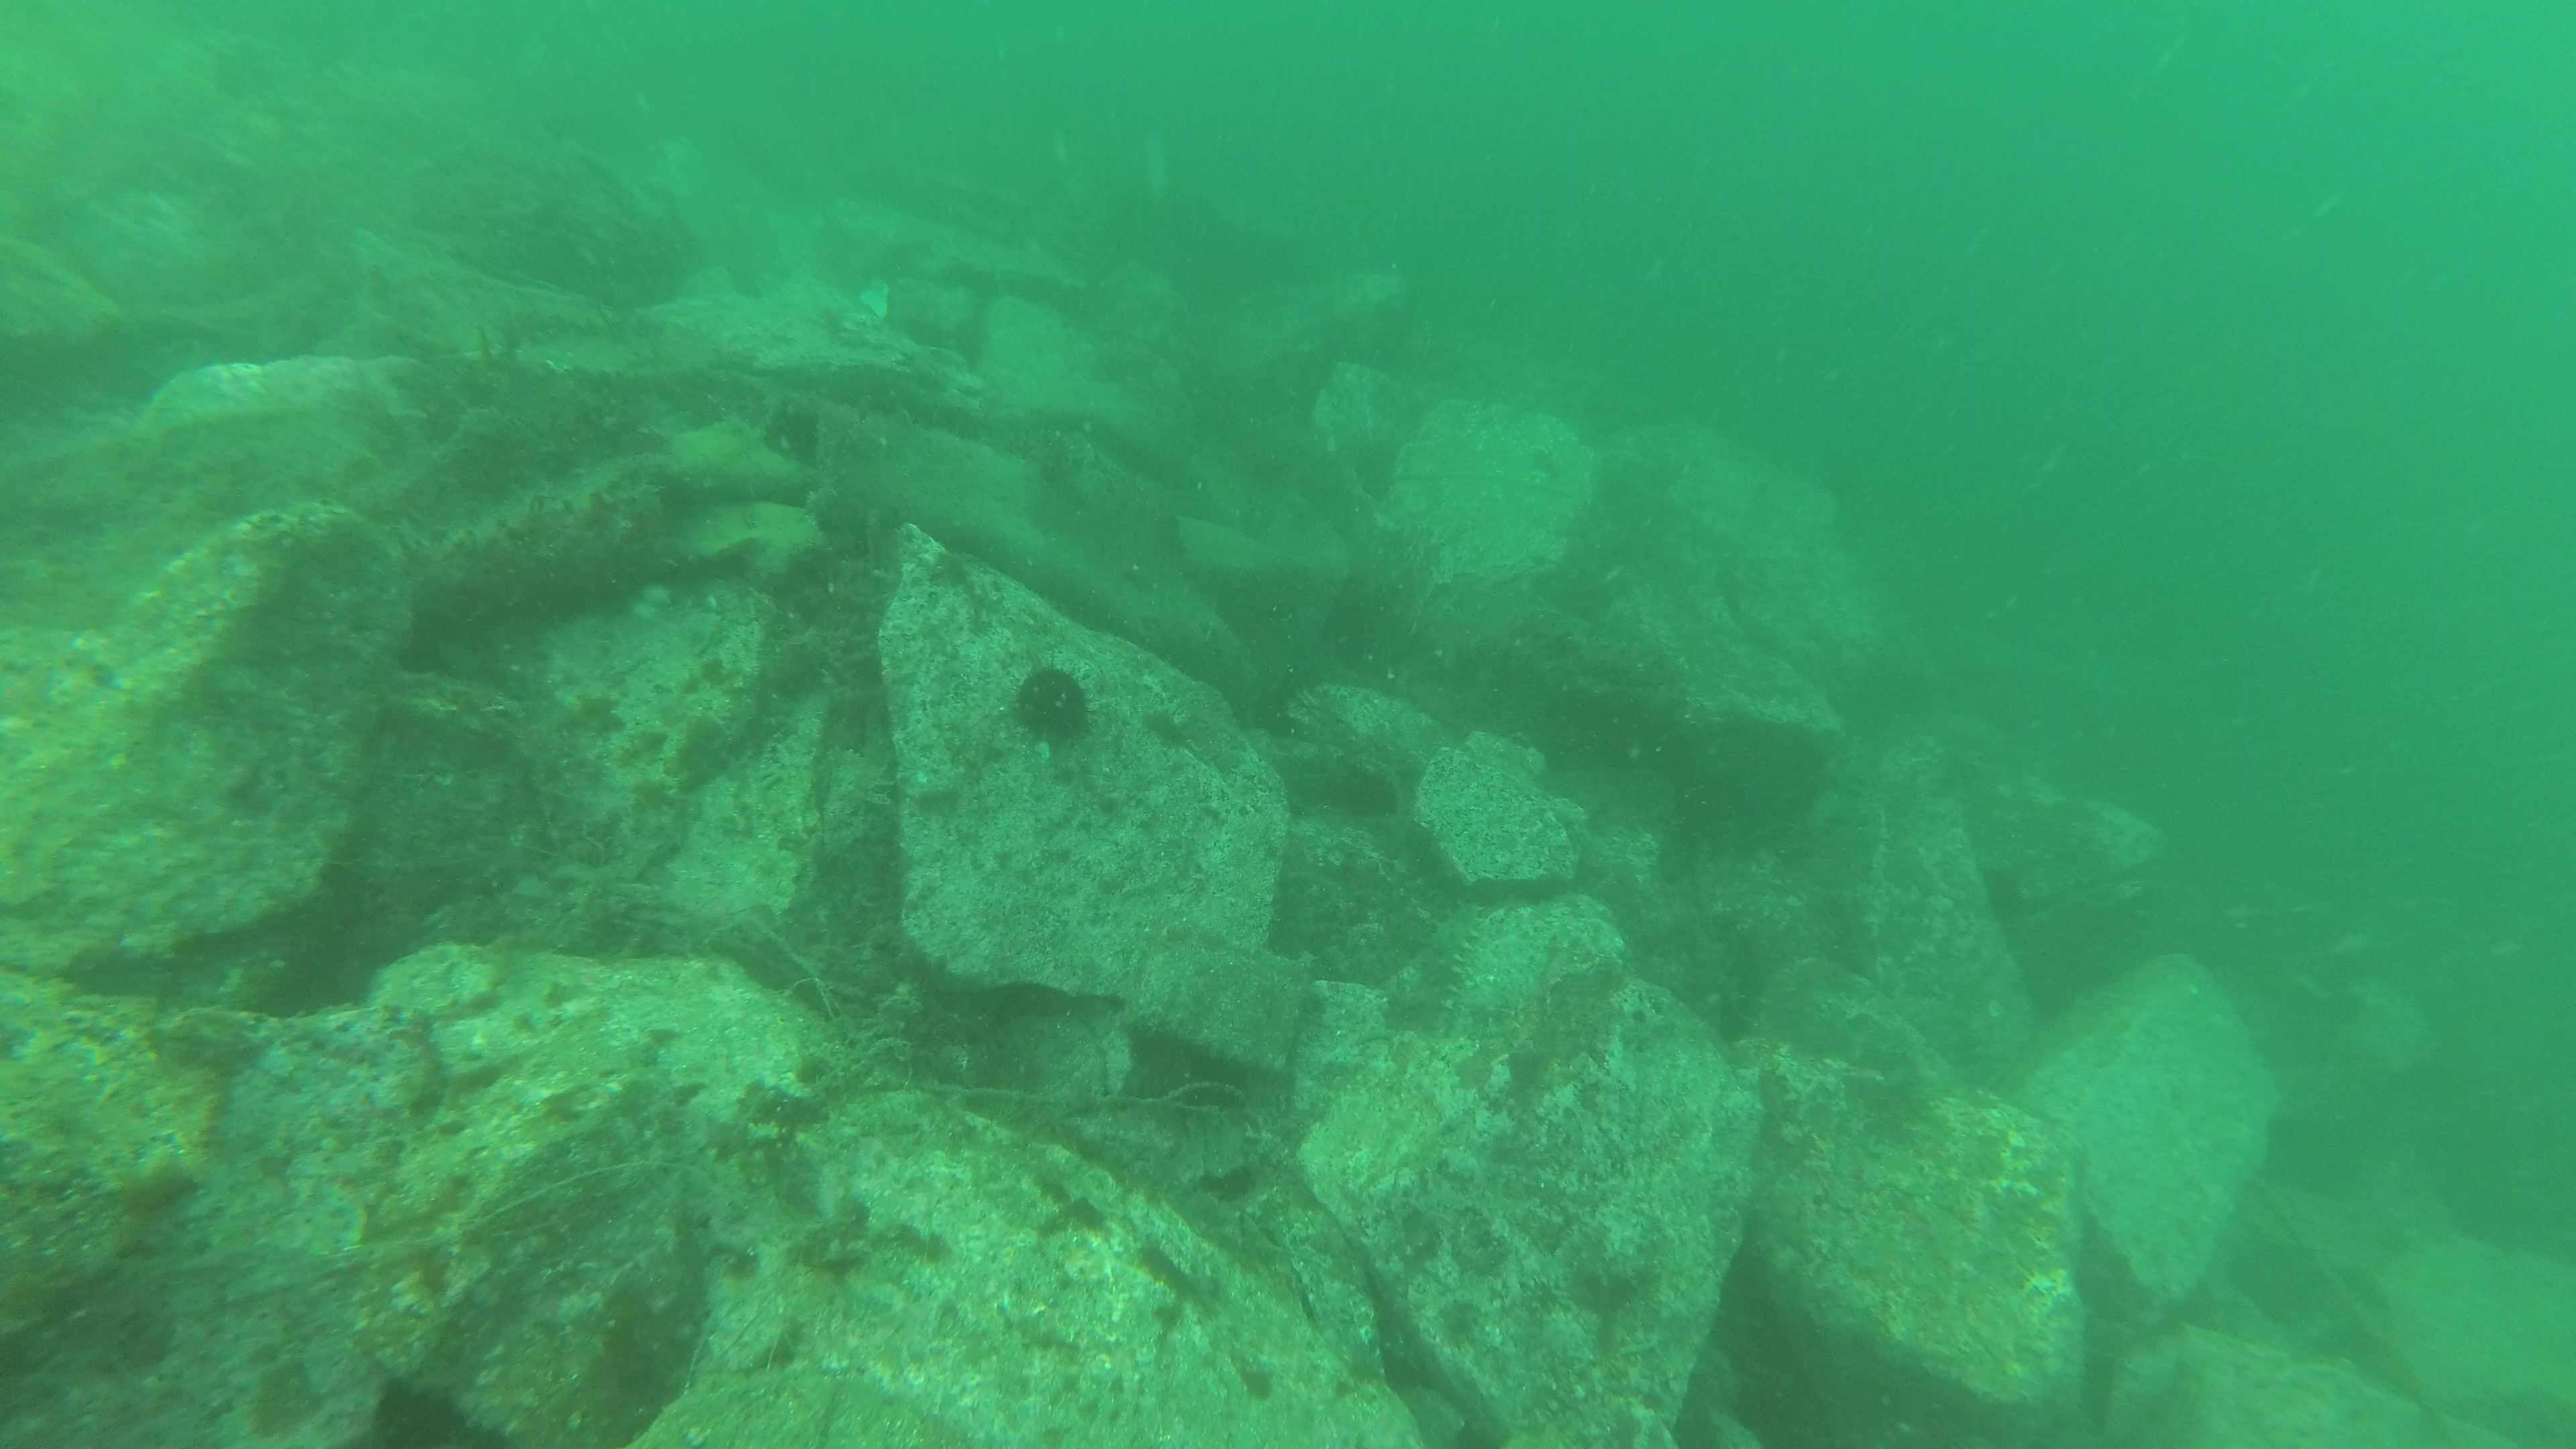echinus: (1000, 658, 1097, 750)
holothurian: (1412, 892, 1495, 1000)
